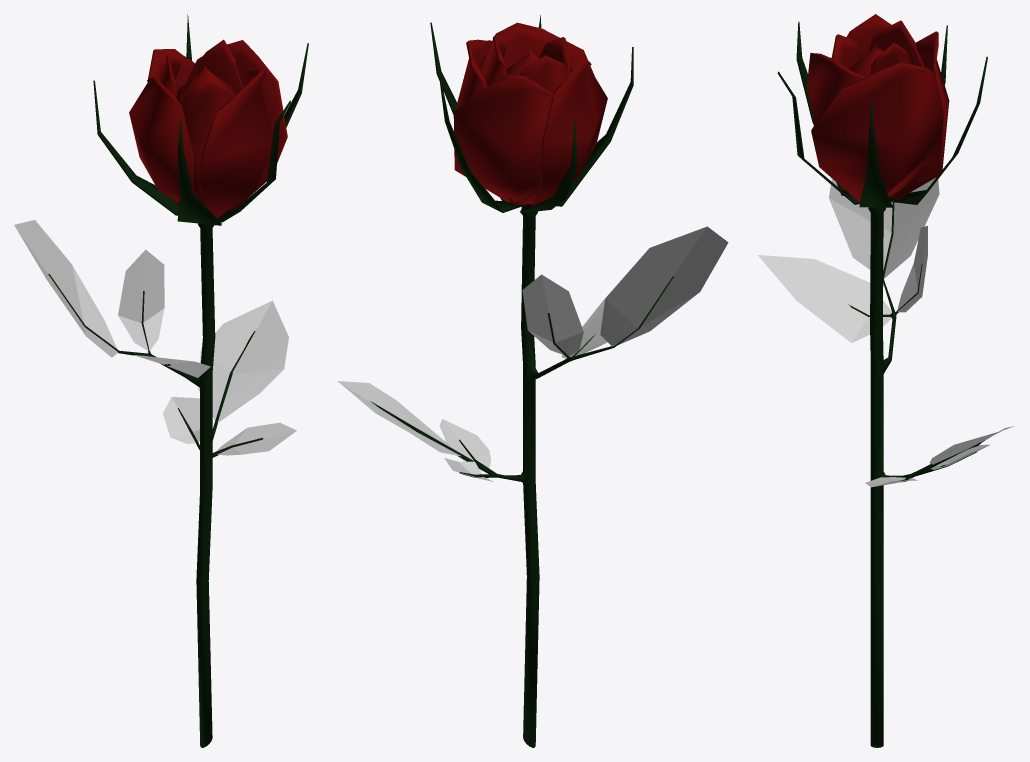
File: freshRose.obj
3 renders of one model, left to right at view 1: azimuth 30°, elevation 25°; view 2: azimuth 150°, elevation 25°; view 3: azimuth 270°, elevation 25°, orthographic. The views are drawn at different scales.
Parts seen in each view (by area): view 1: Cylinder_0, Cylinder_2, Cylinder_1; view 2: Cylinder_0, Cylinder_2, Cylinder_1; view 3: Cylinder_0, Cylinder_2, Cylinder_1.
Part boxes in pixels (x1=…): Cylinder_0: x1=129, y1=39, x2=287, y2=218; Cylinder_2: x1=14, y1=220, x2=296, y2=455; Cylinder_1: x1=48, y1=14, x2=308, y2=747; Cylinder_0: x1=453, y1=22, x2=607, y2=206; Cylinder_2: x1=338, y1=226, x2=728, y2=481; Cylinder_1: x1=370, y1=15, x2=673, y2=747; Cylinder_0: x1=807, y1=14, x2=949, y2=202; Cylinder_2: x1=758, y1=177, x2=1013, y2=487; Cylinder_1: x1=777, y1=21, x2=987, y2=747.
Size of the model in its own units: 0.24 by 0.5138 by 0.1666.
